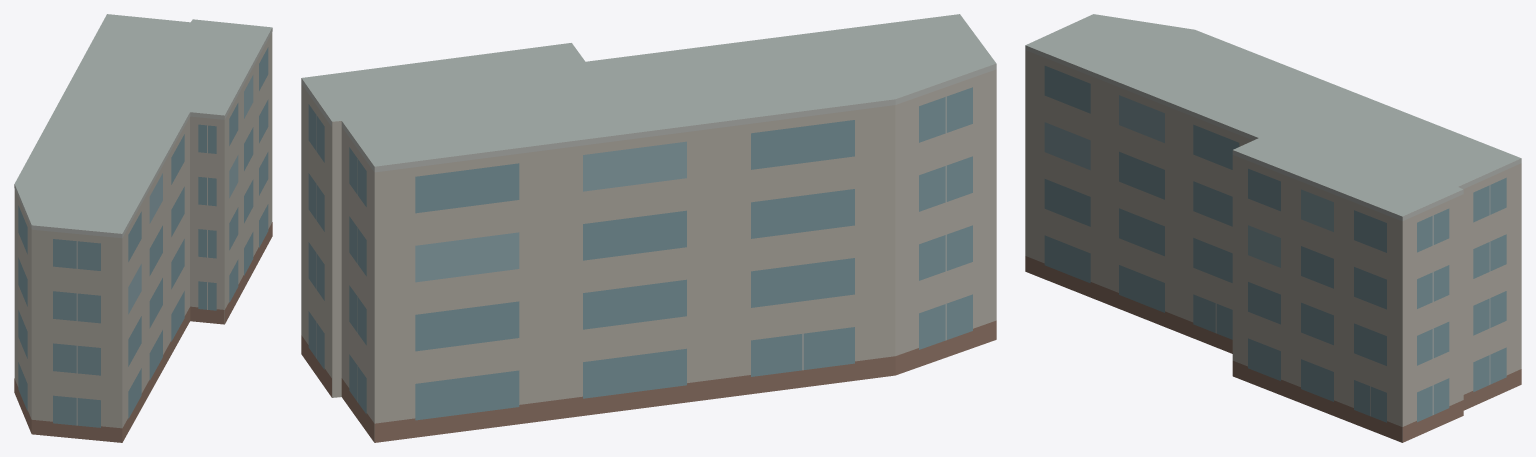
File: survey-upis-32559939.glb
3 renders of one model, left to right at view 1: azimuth 30°, elevation 25°; view 2: azimuth 150°, elevation 25°; view 3: azimuth 270°, elevation 25°, orthographic. The views are drawn at different scales.
Visible parts, largest first — view 1: survey-upis-32559939.tmp; view 2: survey-upis-32559939.tmp; view 3: survey-upis-32559939.tmp.
Part boxes in pixels (box(x1,y1,x2,y2)): survey-upis-32559939.tmp: box(14, 14, 272, 442); survey-upis-32559939.tmp: box(301, 14, 996, 442); survey-upis-32559939.tmp: box(1025, 14, 1521, 442).
Size of the model in its own units: 22.47 by 11.7 by 23.26.
